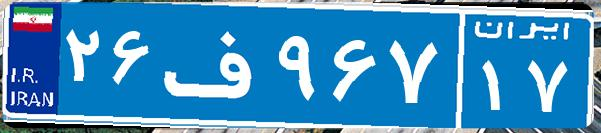1: (475, 38, 525, 113)
2: (57, 26, 110, 107)
6: (330, 28, 385, 110), (110, 28, 158, 105)
7: (385, 28, 445, 110), (525, 38, 570, 115)
9: (273, 28, 330, 110)
ف: (158, 15, 273, 115)
